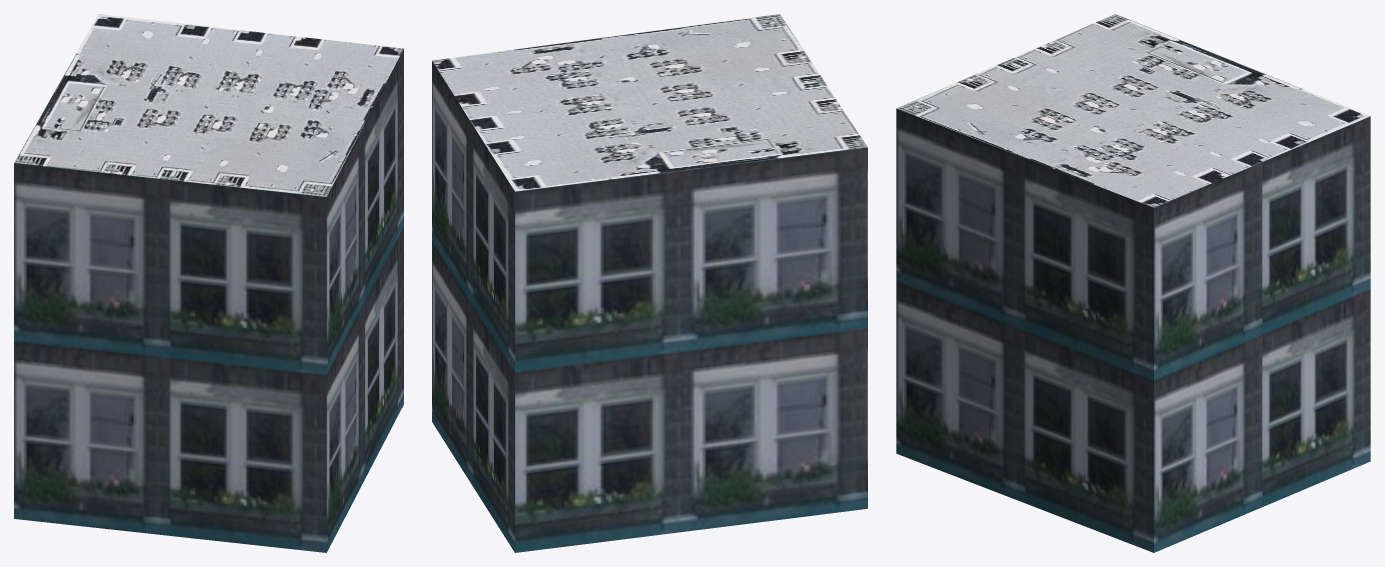
Rendered from ResTex__3536.fbx.
3 renders of one model, left to right at view 1: azimuth 30°, elevation 25°; view 2: azimuth 150°, elevation 25°; view 3: azimuth 270°, elevation 25°, orthographic. The views are drawn at different scales.
Parts seen in each view (by area): view 1: CityEngineMaterial_11_m, CityEngineMaterial_4_m; view 2: CityEngineMaterial_11_m, CityEngineMaterial_4_m; view 3: CityEngineMaterial_11_m, CityEngineMaterial_4_m.
Part boxes in pixels (bbox=[...]): CityEngineMaterial_11_m: bbox=[14, 49, 403, 552]; CityEngineMaterial_4_m: bbox=[14, 14, 403, 196]; CityEngineMaterial_11_m: bbox=[432, 61, 867, 552]; CityEngineMaterial_4_m: bbox=[432, 14, 867, 191]; CityEngineMaterial_11_m: bbox=[896, 108, 1370, 552]; CityEngineMaterial_4_m: bbox=[897, 14, 1369, 207].
Size of the model in its own units: 7.22 by 6 by 7.47.
2 materials, 2 textured.
